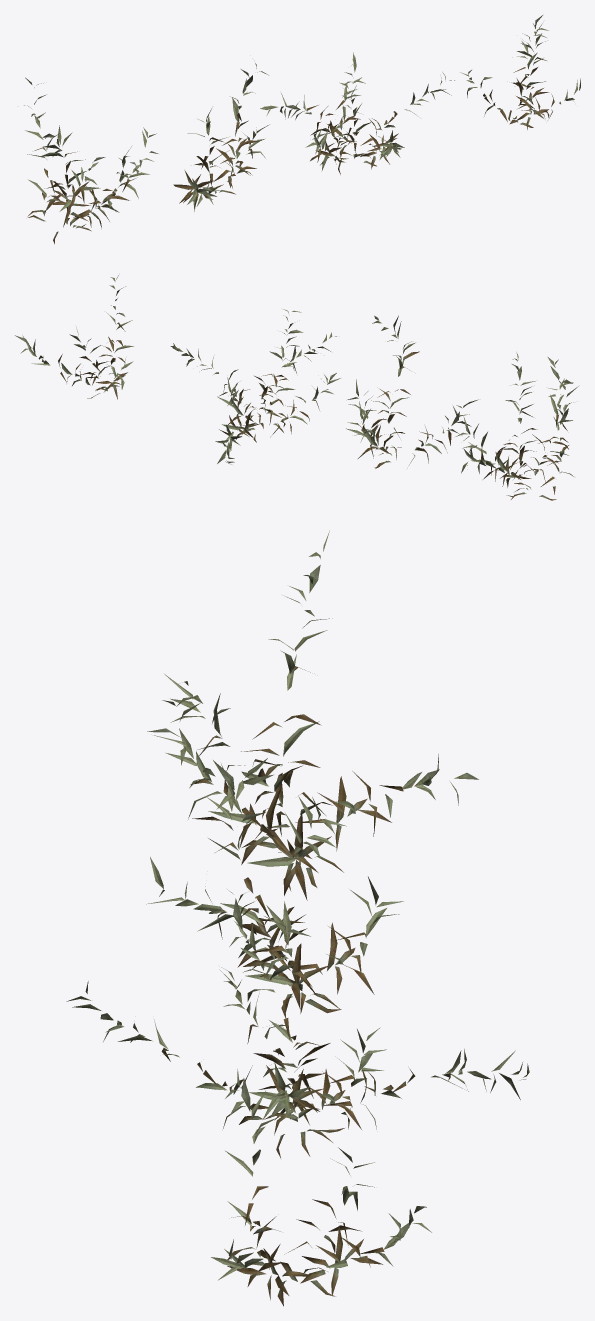
The model's file is shrub_02.glb.
The picture shows the model from 3 angles, top to bottom: view 1: azimuth 30°, elevation 25°; view 2: azimuth 150°, elevation 25°; view 3: azimuth 270°, elevation 25°; orthographic projection. The views are drawn at different scales.
Parts seen in each view (by area): view 1: shrub_02_a; view 2: shrub_02_a; view 3: shrub_02_a.
Boxes of the visible parts, x1,y1,x2,y2 form: shrub_02_a: (24,15,580,244); shrub_02_a: (15,275,579,500); shrub_02_a: (66,530,529,1306).
Bounding box in the file's own units: 6.05 × 1.7 × 2.28.
1 material, 1 textured.
